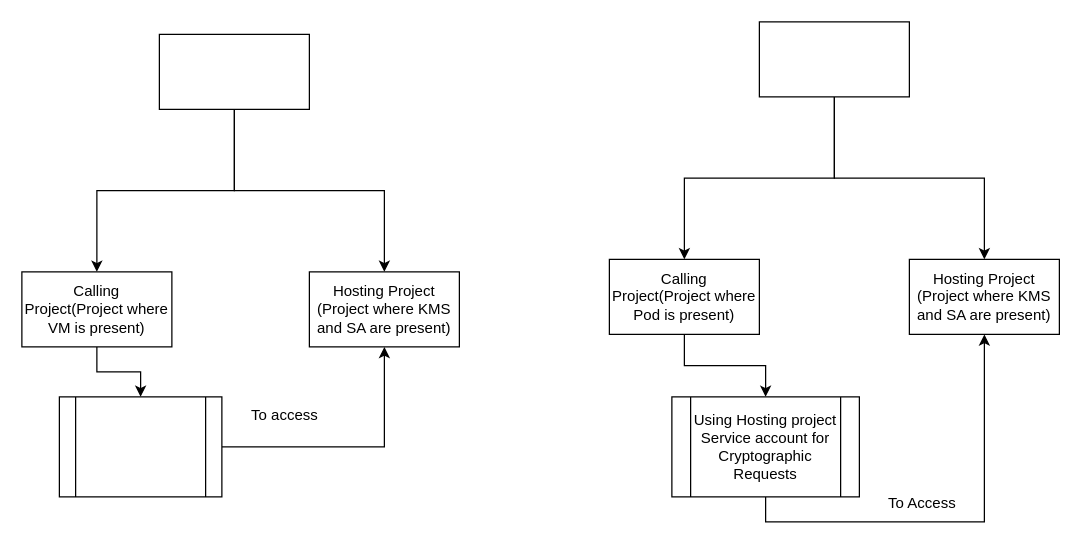
Some shapes in this 1081 by 554 pixel diagram are drawn without their labels. The centre of each missing label's shape, as x and y in pixels:
"GCE" goes at (x=233, y=71).
"GKE" goes at (x=833, y=59).
"Using L&S Service account for Cryptographic Requests" goes at (x=140, y=446).
